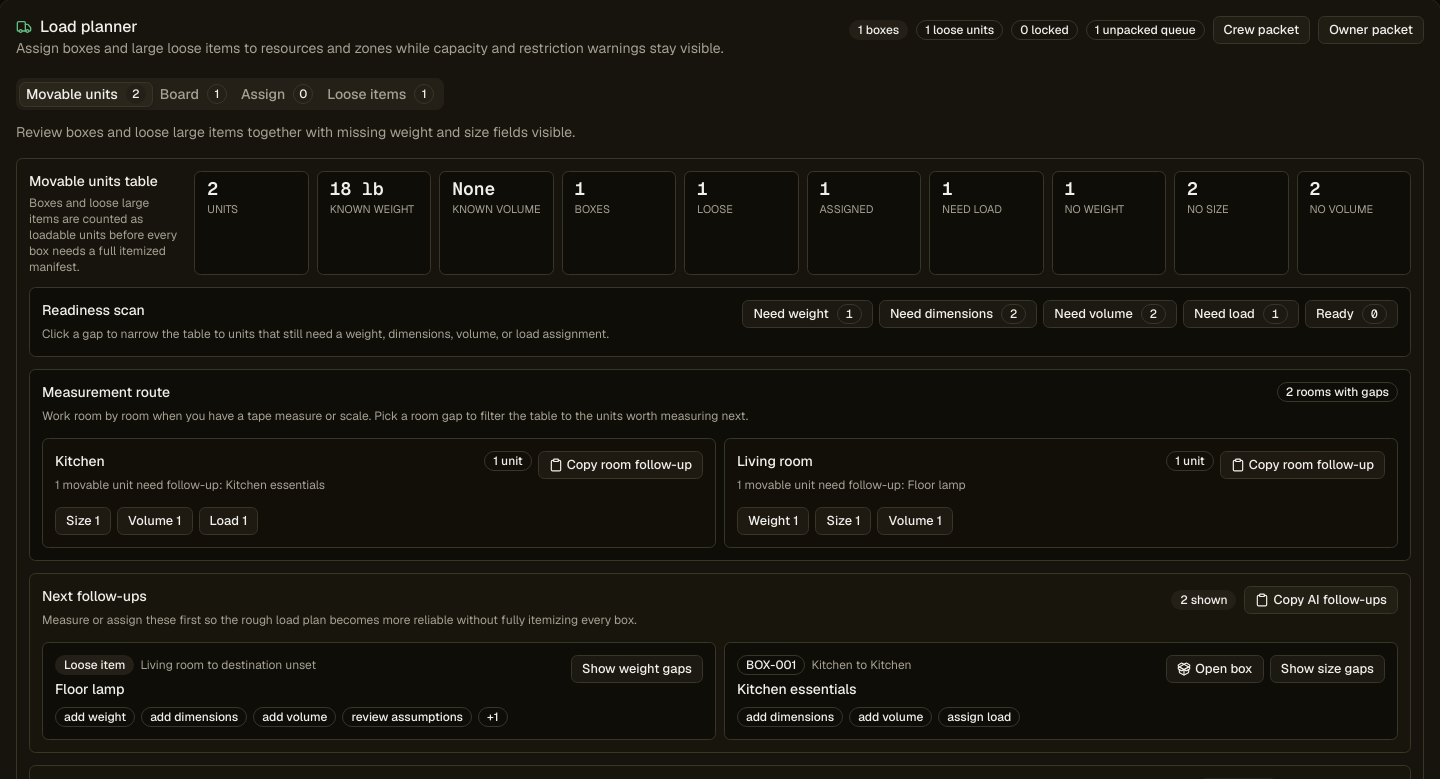
Test case: LoadPlannerBoard task tabs › opens on movable units and keeps board, bulk assignment, and loose-item work separate
Expected: the text "Review boxes and loose large items together with missing weight and size fields visible." is shown, [16, 123, 575, 141]
Expected: the text "Movable units table" is shown, [29, 172, 158, 190]
Click the tab with aria-label "Board: 1 box".
click(193, 94)  # box [153, 82, 234, 106]
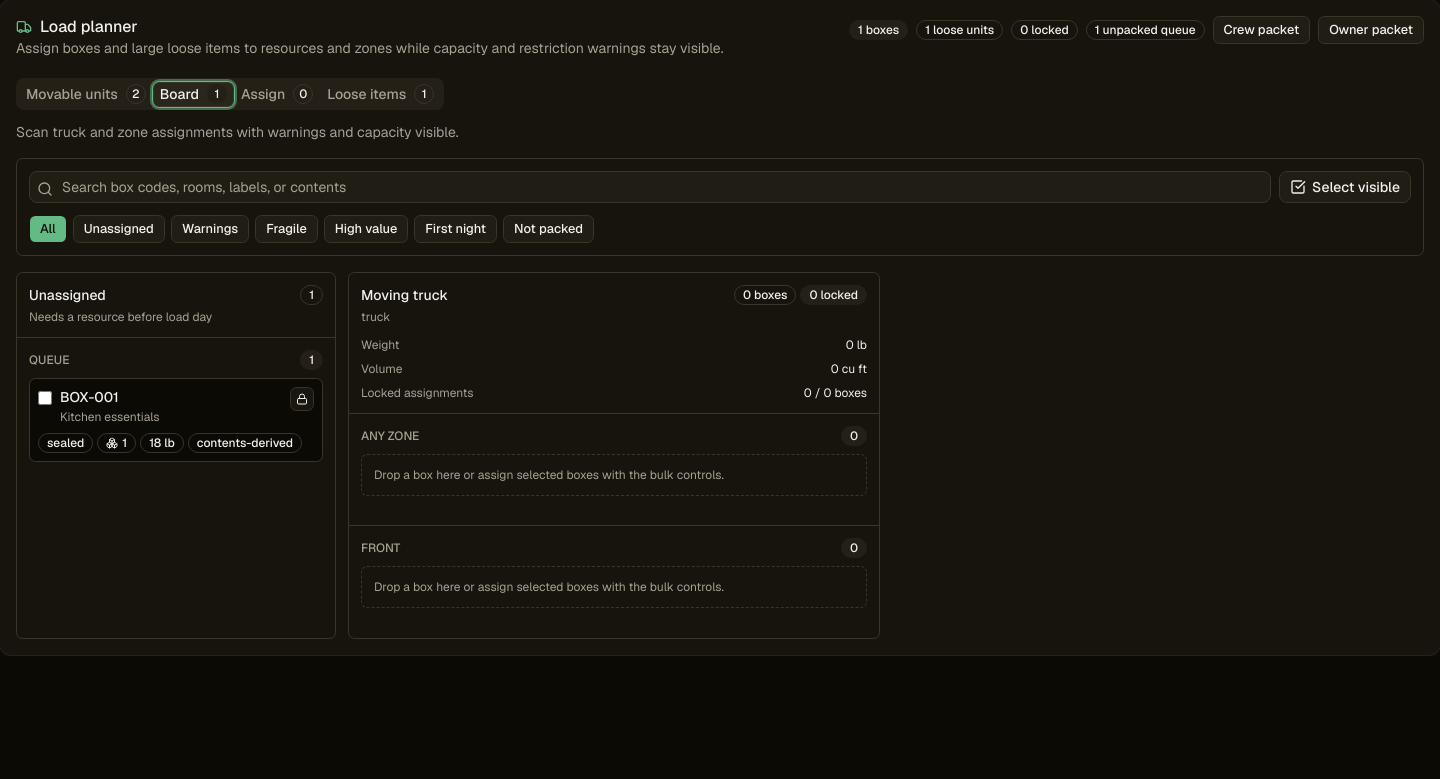
Expected: the text "BOX-001" is shown, [60, 388, 119, 406]
Expected: the text "Scan truck and zone assignments with warnings and capacity visible." is shown, [16, 123, 459, 141]
Expected: the field with placeholder "Search box codes, rooms, labels, or contents" is shown, [29, 171, 1271, 203]
Click the tab with aria-label "Assign: 0 selected".
click(277, 94)  # box [234, 82, 320, 106]
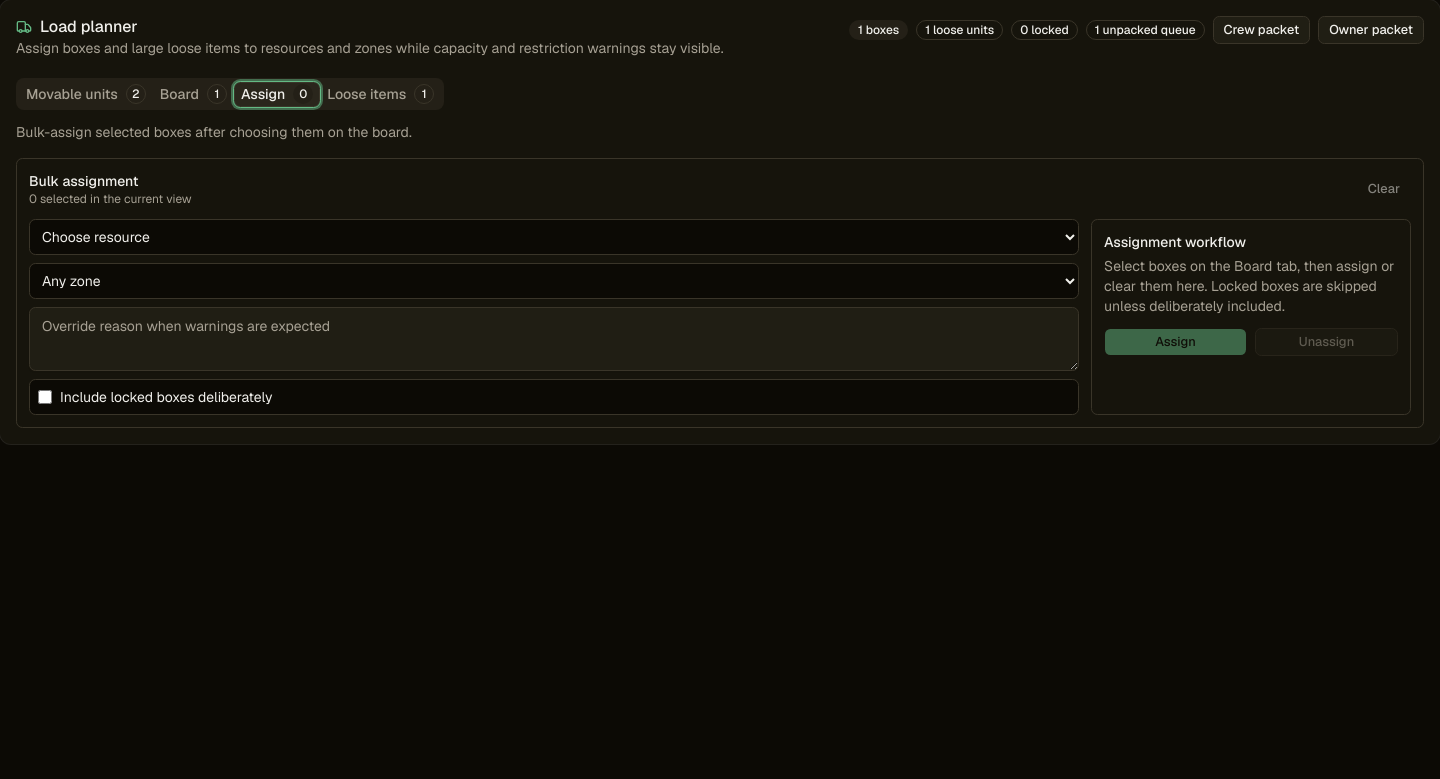
Expected: the text "Bulk-assign selected boxes after choosing them on the board." is shown, [16, 123, 412, 141]
Expected: the text "Bulk assignment" is shown, [29, 172, 139, 190]
Expected: the dropdown named "Bulk assignment resource" is shown, [29, 219, 1079, 255]
Click the tab with aria-label "Loose items: 1 item".
click(381, 94)  # box [320, 82, 441, 106]
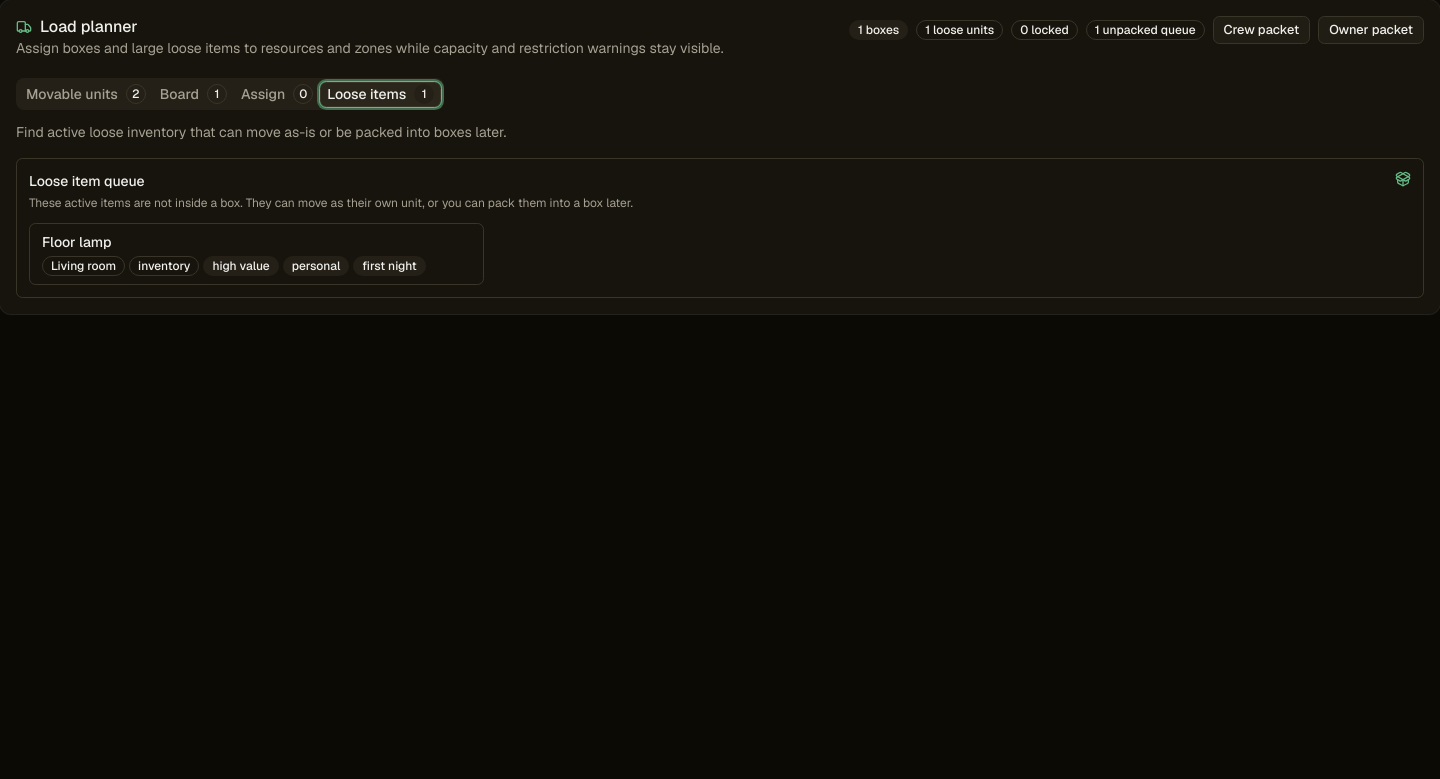
Expected: the text "Find active loose inventory that can move as-is or be packed into boxes later." is shown, [16, 123, 506, 141]
Expected: the text "Loose item queue" is shown, [29, 172, 145, 190]
Expected: the text "Floor lamp" is shown, [42, 233, 112, 251]
